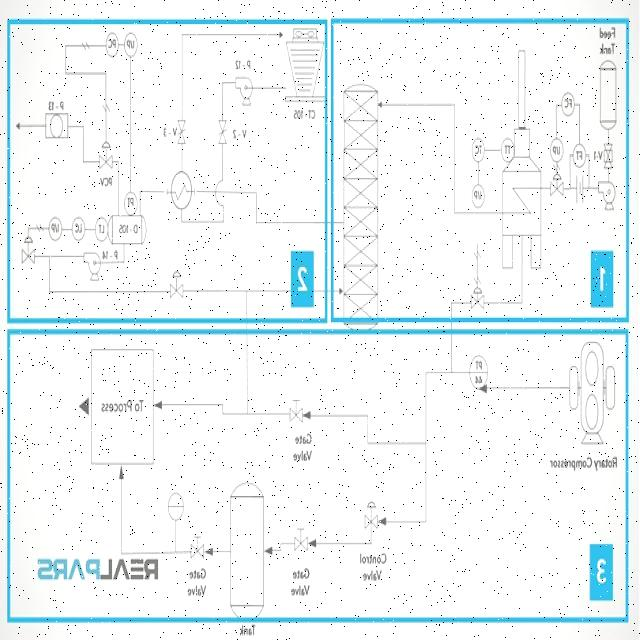Butterfly Valve: (212, 117, 230, 147), (177, 115, 190, 148)
Centrifugal Pump: (232, 74, 258, 105), (78, 250, 102, 282), (596, 177, 617, 213)
Gear Pump: (560, 339, 626, 452)
Hand Operated Gate Valve: (188, 530, 206, 562), (292, 526, 310, 556), (288, 392, 303, 424)
Orifice: (573, 168, 586, 207)
Plug Valve: (602, 137, 618, 176)
Pneumatic-Diaphragm Gate Valve: (16, 232, 38, 268), (360, 497, 380, 534), (168, 269, 186, 302), (97, 137, 115, 169), (548, 171, 565, 201), (470, 284, 488, 310)
